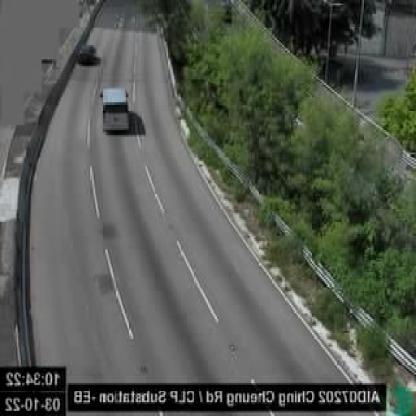Car: (100, 86, 129, 132), (77, 42, 96, 64)
